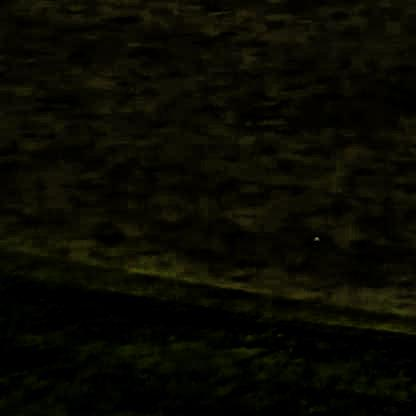golfball: (309, 232, 319, 242)
